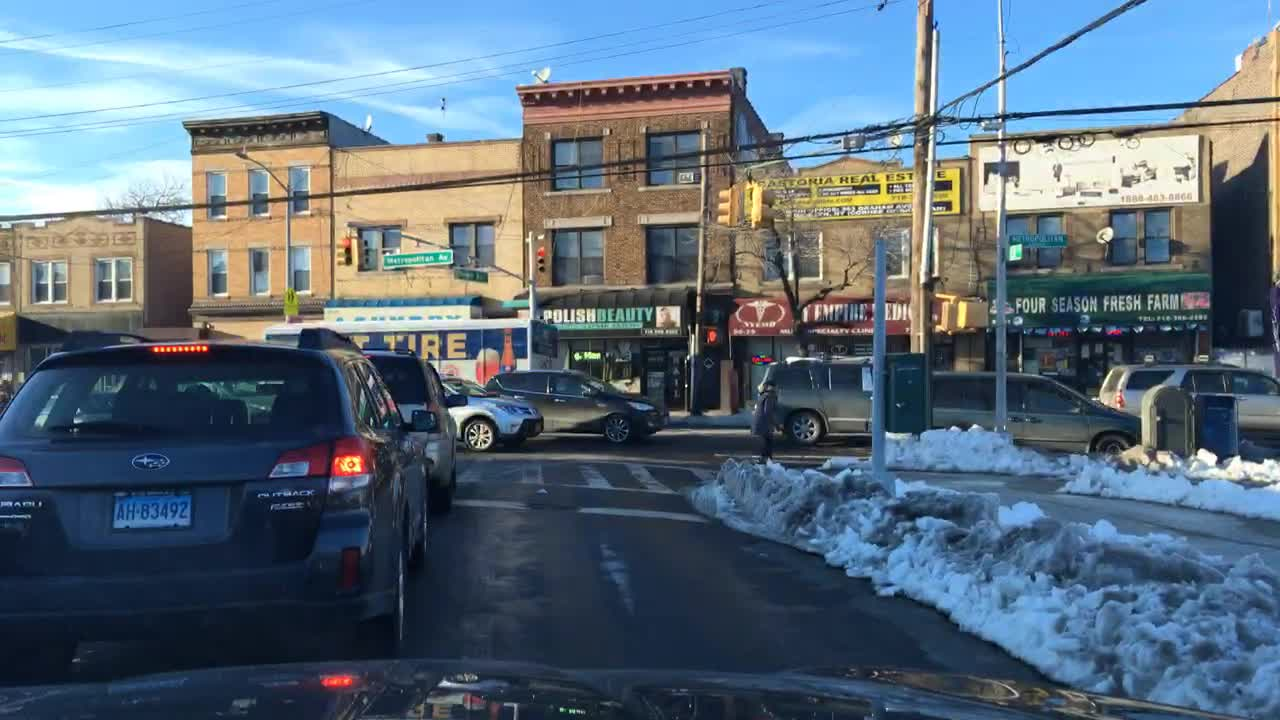car: (0, 338, 429, 683), (924, 368, 1143, 456), (357, 348, 461, 511), (485, 368, 663, 445), (751, 354, 875, 446), (436, 375, 544, 453), (1165, 366, 1277, 439), (1097, 362, 1236, 416)
person: (749, 379, 780, 465)
traffic light: (749, 182, 776, 227), (333, 233, 360, 267), (716, 184, 738, 225), (539, 242, 547, 274), (703, 325, 718, 342)
traffic sign: (382, 250, 452, 270), (1006, 232, 1065, 250), (280, 285, 295, 314), (450, 269, 489, 280)
